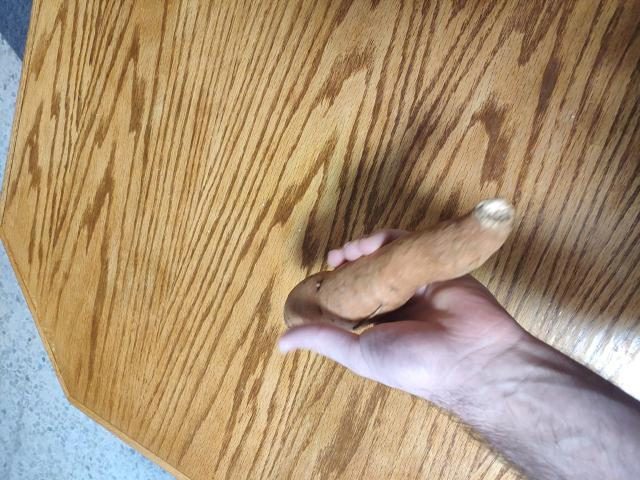sweet_potato: (293, 198, 524, 324)
